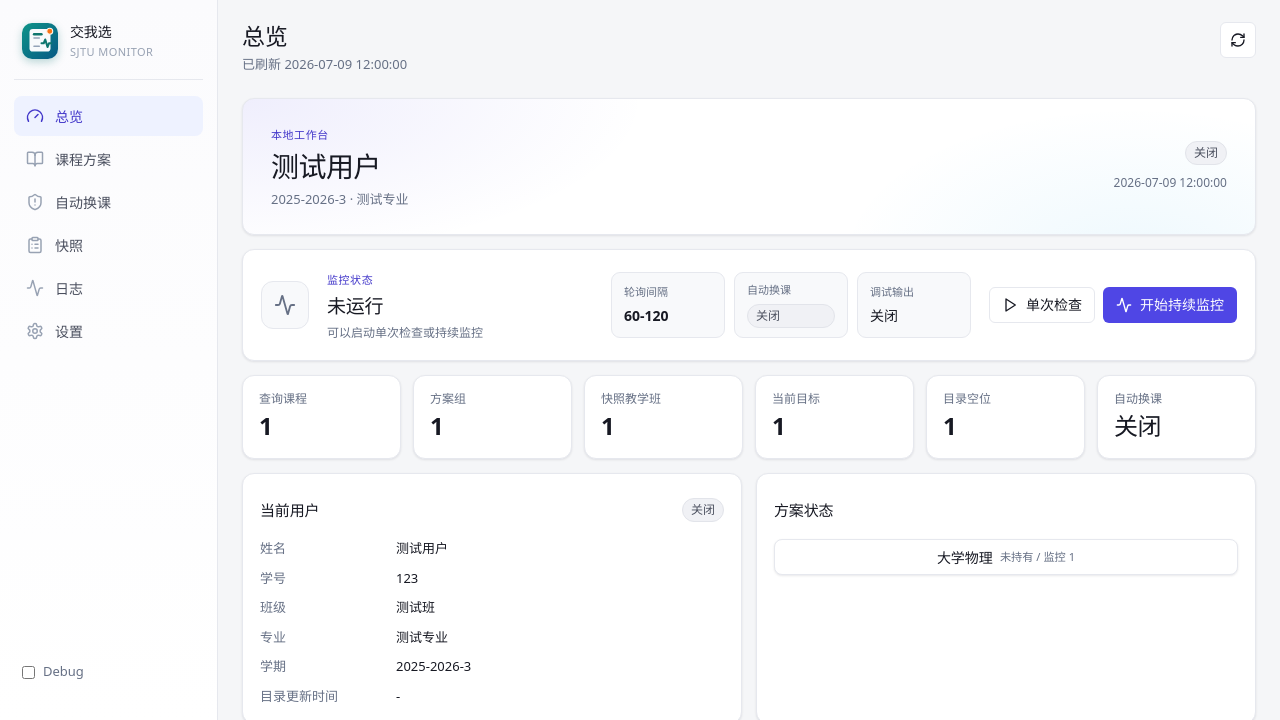
Test: course workspace › shows separate refresh actions, flat plan tabs, and structured rating details
Expected: the heading "当前用户" is shown, [260, 499, 319, 521]
Click the button "课程方案" at coordinates (108, 159), box [14, 139, 203, 179]
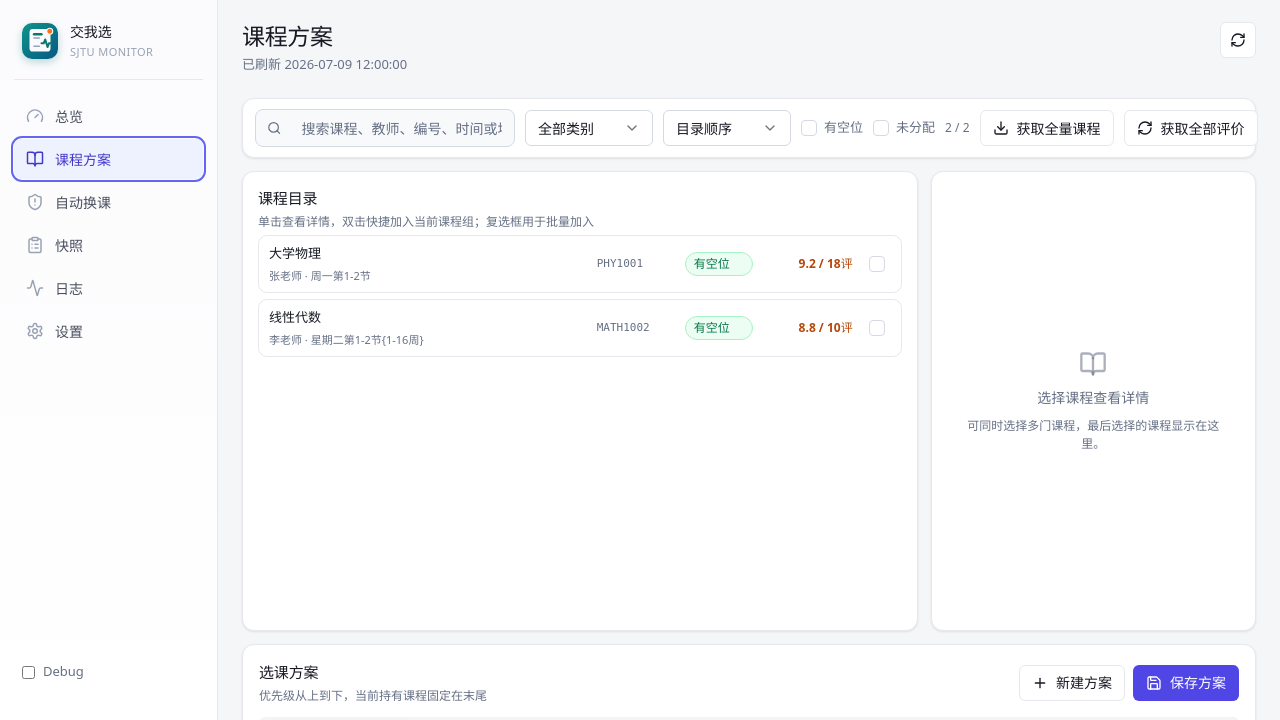
Result: the button "获取全量课程" is shown at [980, 110, 1114, 146]
Result: the button "获取全部评价" is shown at [1124, 110, 1258, 146]
Click the button "大学物理 张老师 · 周一第1-2节 PHY1001 有空位 9.2 / 18评" at coordinates (295, 253), box [258, 235, 902, 293]
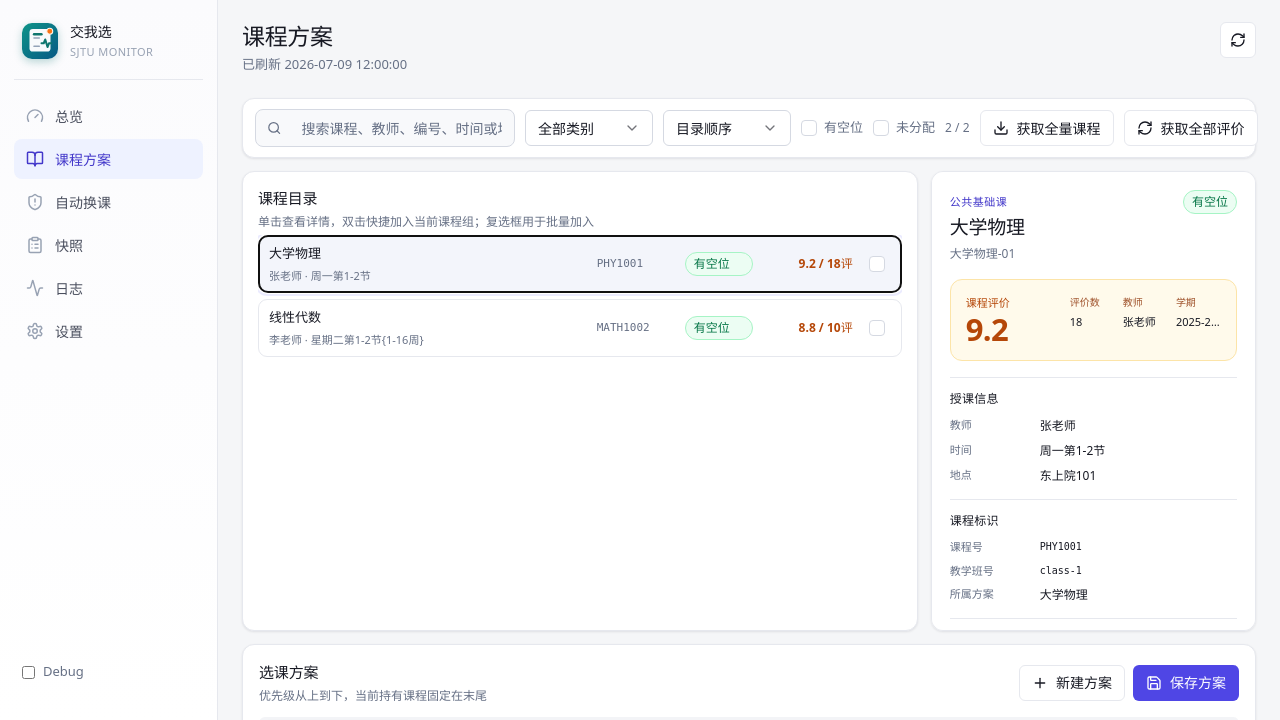
Result: the text "9.2" is shown at [966, 308, 1008, 350]
Result: the text "东上院101" is shown at [1040, 467, 1096, 484]
Result: the text "18" is shown at [1070, 314, 1082, 329]
